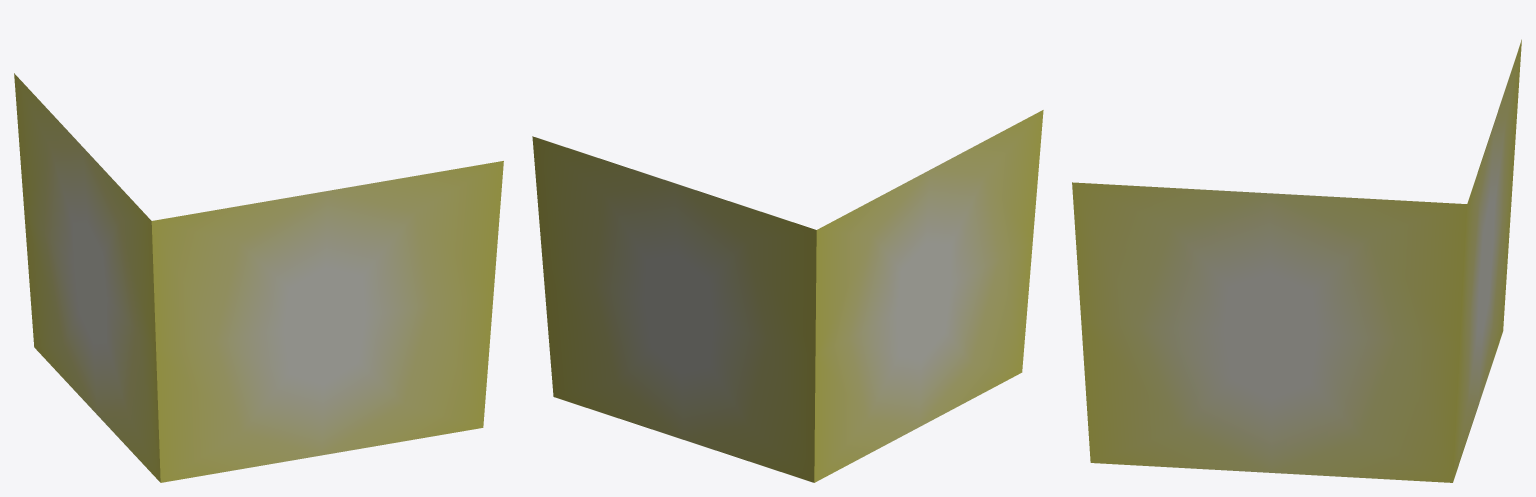
File: LanternBackLeft_2.glb
The picture shows the model from 3 angles, left to right: view 1: azimuth 30°, elevation 25°; view 2: azimuth 150°, elevation 25°; view 3: azimuth 270°, elevation 25°; orthographic projection. The views are drawn at different scales.
Parts seen in each view (by area): view 1: LanternBackLeft; view 2: LanternBackLeft; view 3: LanternBackLeft.
Part boxes in pixels (left/top/right/bottom): LanternBackLeft: left=14, top=73, right=503, bottom=482; LanternBackLeft: left=532, top=110, right=1043, bottom=482; LanternBackLeft: left=1072, top=39, right=1521, bottom=482.
Size of the model in its own units: 0.6568 by 0.4616 by 0.6568.
